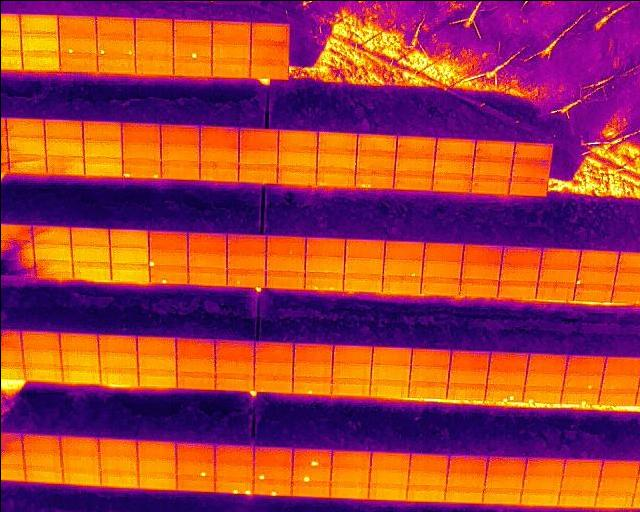Cell: (173, 36, 212, 57), (58, 35, 98, 54), (292, 449, 332, 467), (382, 259, 421, 277), (575, 267, 616, 284), (147, 250, 188, 267), (292, 376, 331, 393), (149, 266, 187, 283), (563, 371, 602, 387), (253, 463, 291, 479), (175, 460, 213, 476), (523, 385, 560, 401), (226, 270, 265, 285), (291, 466, 330, 481), (560, 388, 599, 402), (253, 480, 291, 494)
Cell-Multi: (96, 36, 135, 55), (304, 273, 343, 290), (122, 162, 160, 178), (215, 477, 253, 493), (483, 385, 523, 400), (354, 175, 393, 187)
No-Anomaly: (82, 140, 122, 165), (304, 236, 345, 258), (240, 130, 279, 152), (463, 243, 502, 265), (160, 126, 200, 147), (44, 139, 84, 160), (146, 230, 188, 250), (502, 245, 540, 267), (394, 155, 435, 175), (18, 13, 59, 33), (120, 123, 159, 144), (96, 15, 135, 36), (276, 151, 316, 171), (70, 226, 110, 246), (226, 233, 266, 253), (266, 234, 306, 254), (424, 242, 464, 262), (134, 54, 174, 74), (58, 14, 96, 35), (474, 141, 513, 161), (122, 143, 161, 163), (200, 129, 239, 149), (434, 157, 473, 177), (316, 133, 355, 153), (384, 240, 423, 260), (134, 17, 173, 37), (160, 147, 201, 166), (6, 137, 47, 156), (108, 229, 149, 248), (344, 239, 385, 258), (578, 249, 619, 268), (355, 155, 395, 174), (395, 136, 435, 155), (355, 135, 395, 154), (238, 150, 276, 170), (317, 152, 355, 172), (71, 261, 111, 280), (343, 257, 383, 276), (21, 53, 61, 72), (211, 58, 251, 77), (370, 451, 410, 470), (264, 254, 306, 272), (5, 118, 44, 137), (277, 133, 316, 152), (175, 336, 214, 355), (20, 33, 59, 52), (134, 36, 173, 55), (44, 120, 83, 139), (187, 232, 226, 251), (540, 248, 579, 267), (59, 54, 98, 73), (250, 58, 287, 78), (422, 261, 463, 279), (210, 39, 251, 57), (436, 140, 474, 159), (82, 123, 120, 142), (409, 452, 447, 471), (97, 55, 135, 74), (253, 340, 293, 358), (409, 364, 449, 382), (450, 348, 490, 366), (109, 247, 149, 265), (305, 256, 345, 274), (329, 481, 369, 499), (136, 470, 176, 488), (32, 244, 74, 261), (201, 149, 238, 168), (510, 177, 547, 196), (371, 345, 410, 363), (293, 342, 332, 360), (34, 260, 73, 278), (265, 271, 304, 289), (525, 457, 564, 475), (99, 468, 138, 486), (174, 57, 213, 75), (448, 455, 487, 473), (212, 21, 251, 39), (20, 434, 61, 451), (330, 450, 371, 467), (175, 354, 216, 371), (213, 445, 254, 462), (460, 263, 501, 280), (382, 276, 423, 293), (333, 343, 371, 361), (566, 354, 604, 372), (253, 446, 291, 464), (601, 459, 639, 477), (535, 283, 573, 301), (293, 359, 333, 376), (60, 436, 100, 453), (370, 362, 410, 379), (471, 177, 511, 194), (471, 161, 511, 178), (536, 267, 576, 284), (97, 453, 137, 470), (485, 473, 525, 490), (597, 388, 639, 404), (99, 334, 136, 352), (514, 143, 551, 161), (460, 279, 497, 297), (564, 458, 601, 476), (250, 40, 287, 58), (526, 369, 565, 386), (137, 369, 176, 386), (136, 335, 175, 352), (332, 361, 371, 378), (254, 358, 293, 375), (61, 349, 100, 366), (187, 251, 226, 268), (173, 18, 212, 35), (497, 282, 536, 299), (291, 480, 330, 497), (70, 246, 111, 262), (226, 254, 267, 270), (60, 333, 98, 350), (528, 352, 566, 369), (574, 284, 612, 301), (215, 340, 253, 357), (602, 370, 640, 387), (176, 443, 214, 460), (501, 264, 539, 281), (486, 457, 524, 474), (448, 366, 488, 382), (411, 348, 451, 364), (486, 368, 526, 384), (489, 352, 529, 368), (408, 380, 448, 396), (187, 269, 227, 285), (63, 364, 100, 381), (22, 332, 59, 349), (250, 23, 287, 40), (111, 264, 148, 281), (99, 367, 138, 383), (214, 373, 253, 389), (176, 371, 215, 387), (331, 378, 370, 394), (431, 177, 470, 193), (421, 278, 460, 294), (137, 456, 176, 472), (45, 160, 84, 176), (368, 483, 407, 499), (61, 468, 100, 484), (20, 451, 61, 466), (512, 161, 548, 178), (215, 357, 253, 373), (138, 353, 176, 369), (370, 379, 408, 395), (523, 475, 561, 491), (23, 466, 61, 482), (445, 485, 483, 501), (407, 483, 445, 499), (482, 487, 520, 503), (137, 440, 176, 455), (98, 438, 137, 453), (253, 374, 292, 389), (160, 164, 199, 179), (393, 175, 432, 190), (213, 463, 252, 478), (445, 470, 484, 485), (61, 451, 97, 467), (604, 355, 640, 371), (99, 351, 137, 366), (22, 349, 60, 364), (447, 383, 485, 398), (597, 476, 635, 491), (343, 276, 383, 290), (407, 471, 447, 485), (559, 491, 599, 505), (329, 467, 368, 481), (561, 476, 600, 490), (520, 490, 559, 504), (239, 170, 277, 184), (277, 170, 315, 184), (370, 468, 408, 482), (24, 365, 61, 379), (315, 172, 352, 186), (177, 476, 214, 490), (83, 164, 122, 177), (201, 169, 238, 182), (595, 492, 632, 505)
Shadowing: (7, 153, 46, 173), (31, 225, 70, 244)
